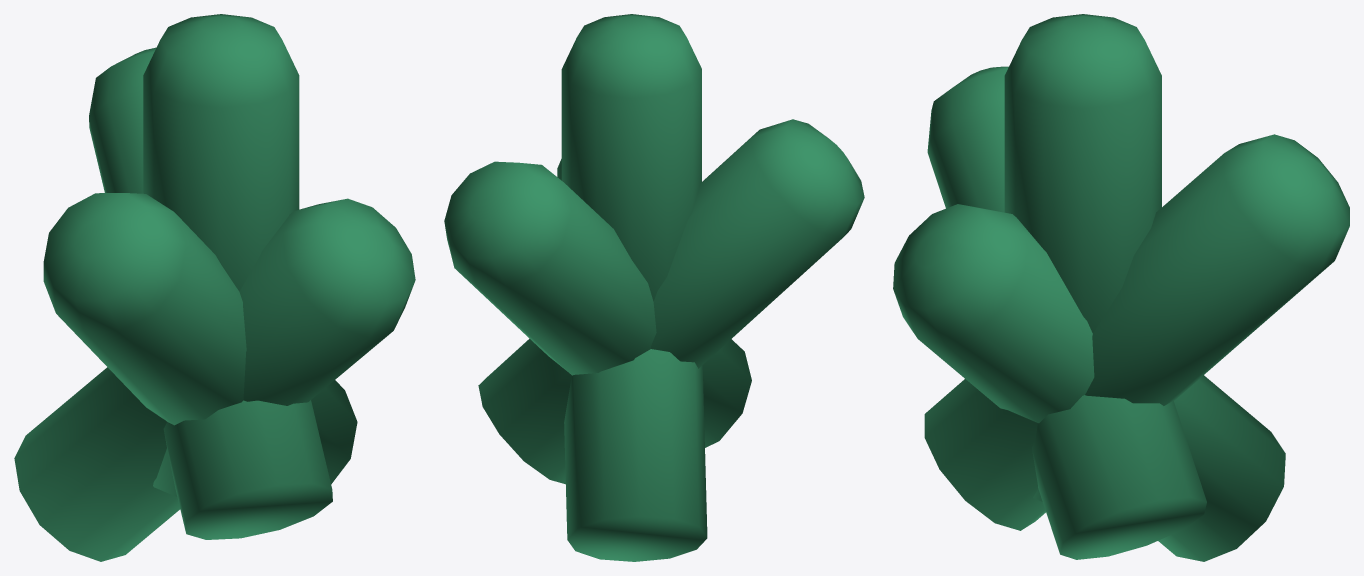
Rendered from grass.glb.
3 renders of one model, left to right at view 1: azimuth 30°, elevation 25°; view 2: azimuth 150°, elevation 25°; view 3: azimuth 270°, elevation 25°, orthographic. The views are drawn at different scales.
Parts seen in each view (by area): view 1: Plant.001; view 2: Plant.001; view 3: Plant.001.
Part boxes in pixels (left/top/right/bottom): Plant.001: left=14, top=14, right=415, bottom=561; Plant.001: left=444, top=14, right=864, bottom=561; Plant.001: left=893, top=14, right=1349, bottom=561.
Bounding box in the file's own units: 0.5266 × 0.7897 × 0.5887.
